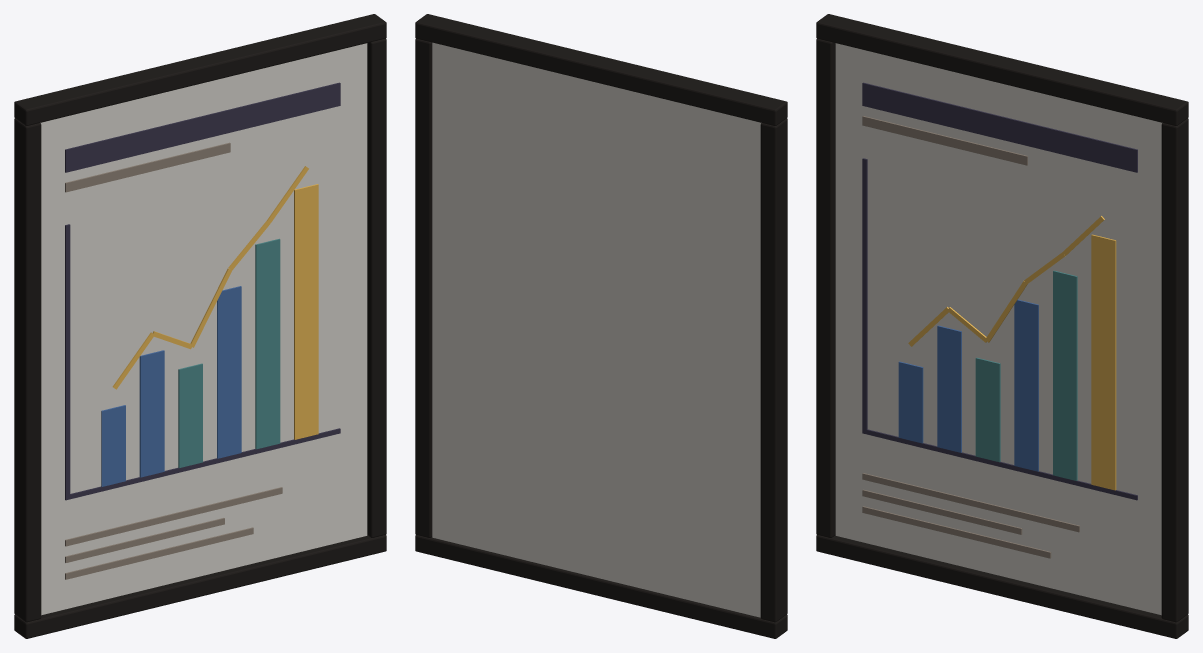
Rendered from hh_cat_office_poster.glb.
3 views of the same model, side by side, from view 1: azimuth 30°, elevation 25°; view 2: azimuth 150°, elevation 25°; view 3: azimuth 330°, elevation 25° (orthographic).
Parts seen in each view (by area): view 1: mount, frame.001, frame.002, frame.003, frame, title, bar.005, bar.004, bar.003, bar.001, bar.002, bar (+6 smaller); view 2: mount, frame.001, frame.002, frame.003, frame; view 3: mount, frame.003, frame.002, frame.001, frame, title, bar.005, bar.004, bar.003, bar.001, bar.002, bar (+6 smaller).
Boxes of the visible parts, x1,y1,x2,y2 form: mount: (40,43,367,615); frame.001: (14,118,41,622); frame.002: (14,14,386,125); frame.003: (367,38,386,537); frame: (14,535,386,638); title: (65,82,340,172); bar.005: (294,184,318,439); bar.004: (255,238,280,449); bar.003: (217,286,241,458); bar.001: (139,350,164,477); bar.002: (178,363,202,468); bar: (101,405,125,486); mount: (432,42,761,617); frame.001: (760,118,787,622); frame.002: (415,14,787,125); frame.003: (415,38,432,537); frame: (415,535,787,638); mount: (835,43,1162,615); frame.003: (1161,118,1188,622); frame.002: (816,14,1188,125); frame.001: (816,38,835,537); frame: (816,535,1188,638); title: (862,82,1137,172); bar.005: (1091,234,1116,490); bar.004: (1053,270,1077,480); bar.003: (1014,299,1038,471); bar.001: (937,325,961,452); bar.002: (975,357,1000,462); bar: (898,361,923,443).
Size of the model in its own units: 0.5 by 0.7 by 0.03.
